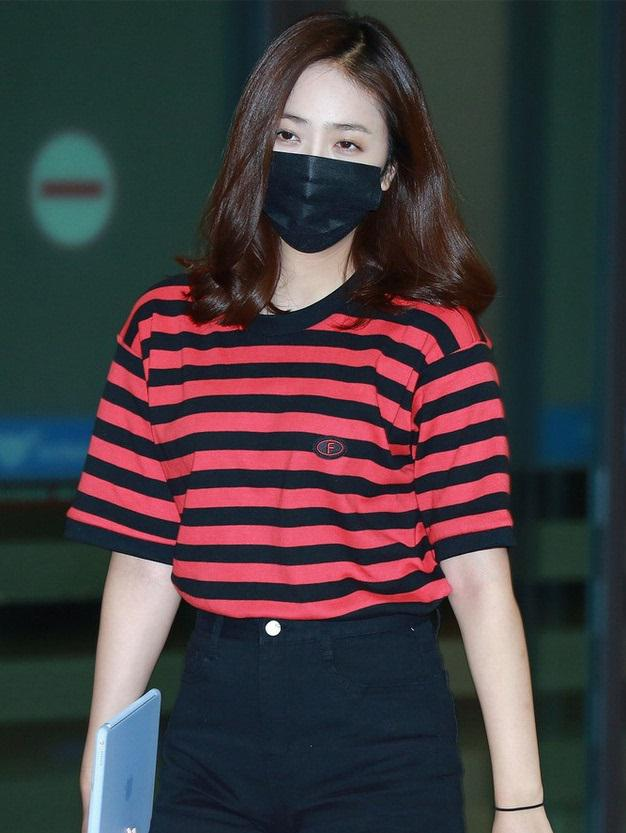OK: (257, 104, 387, 240)
